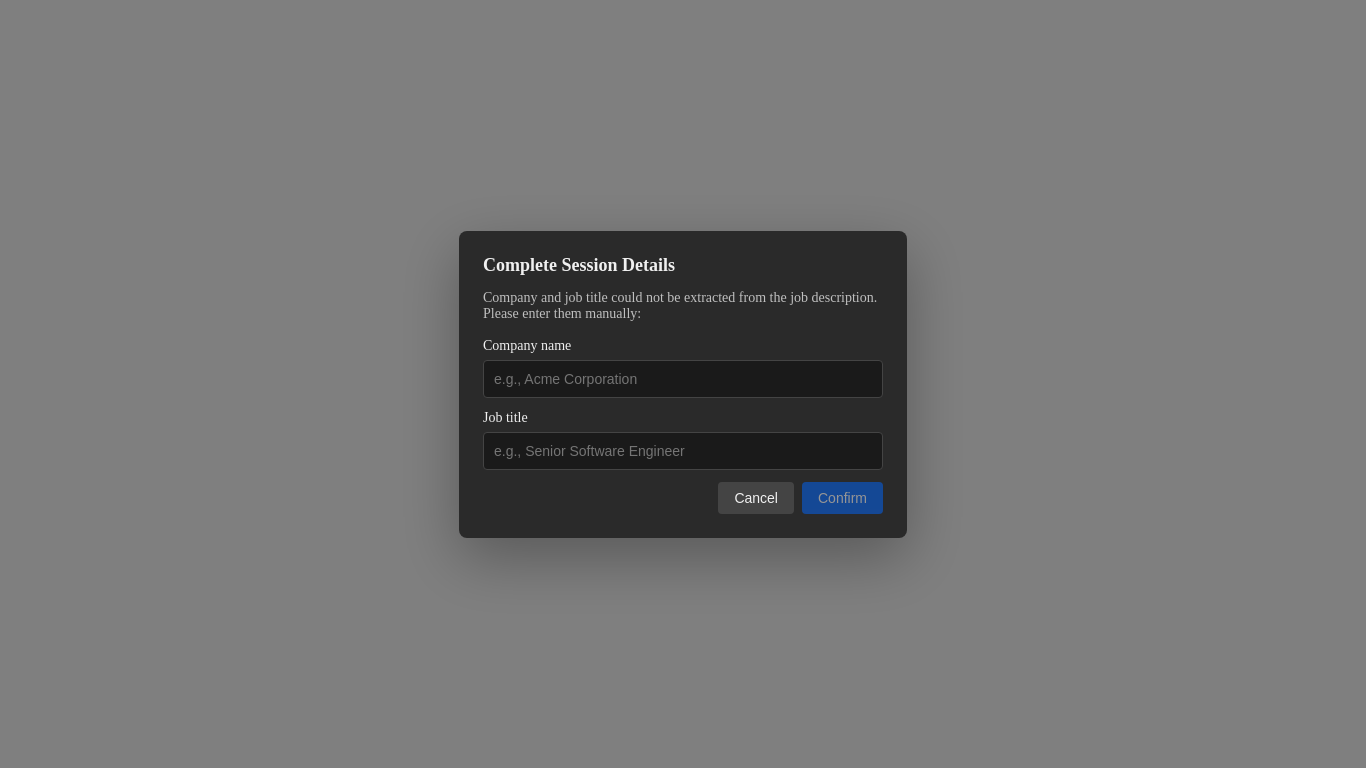
SessionWarningDialog › should enable confirm button when both fields are filled
Step 1. Type "Acme" into the field with id "company-input" → (683, 378), box [483, 360, 883, 398]
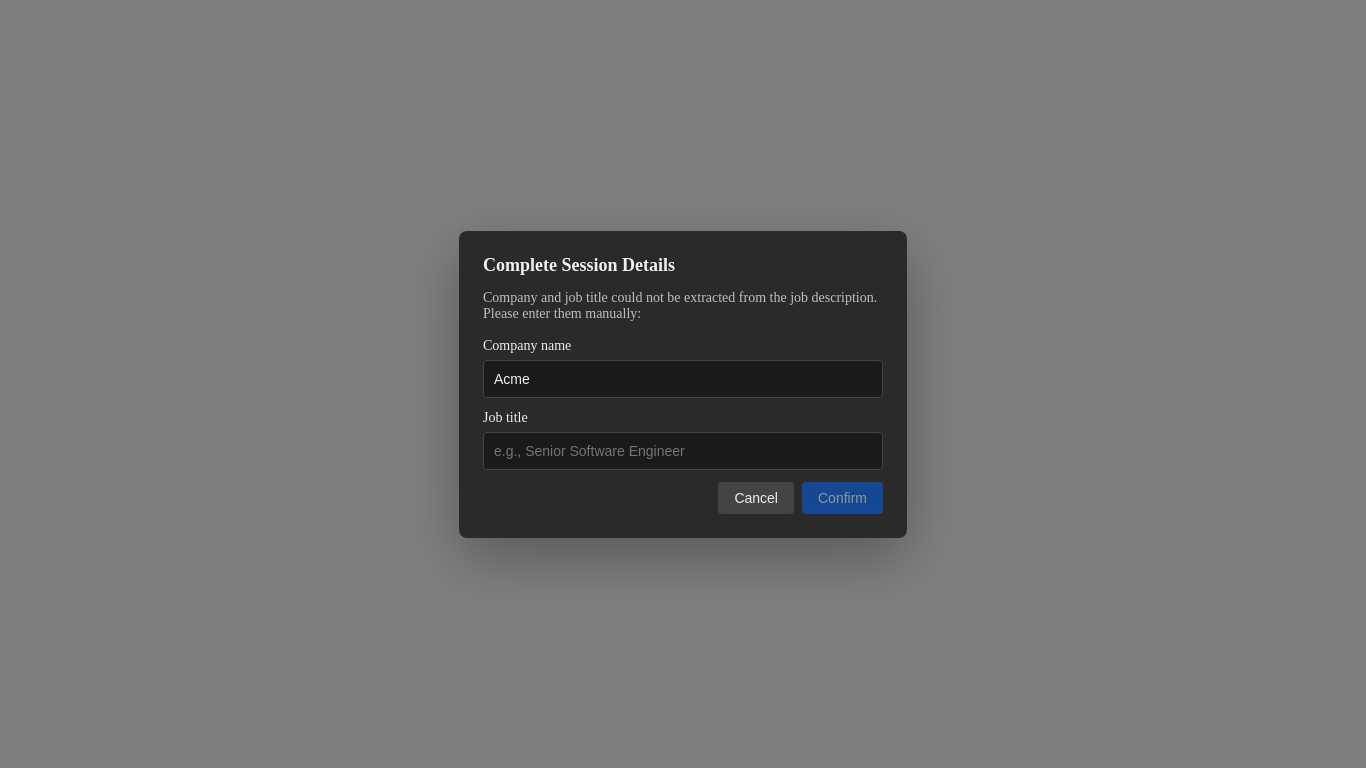
Step 2. Type "Engineer" into the field with id "role-input" → (683, 450), box [483, 432, 883, 470]
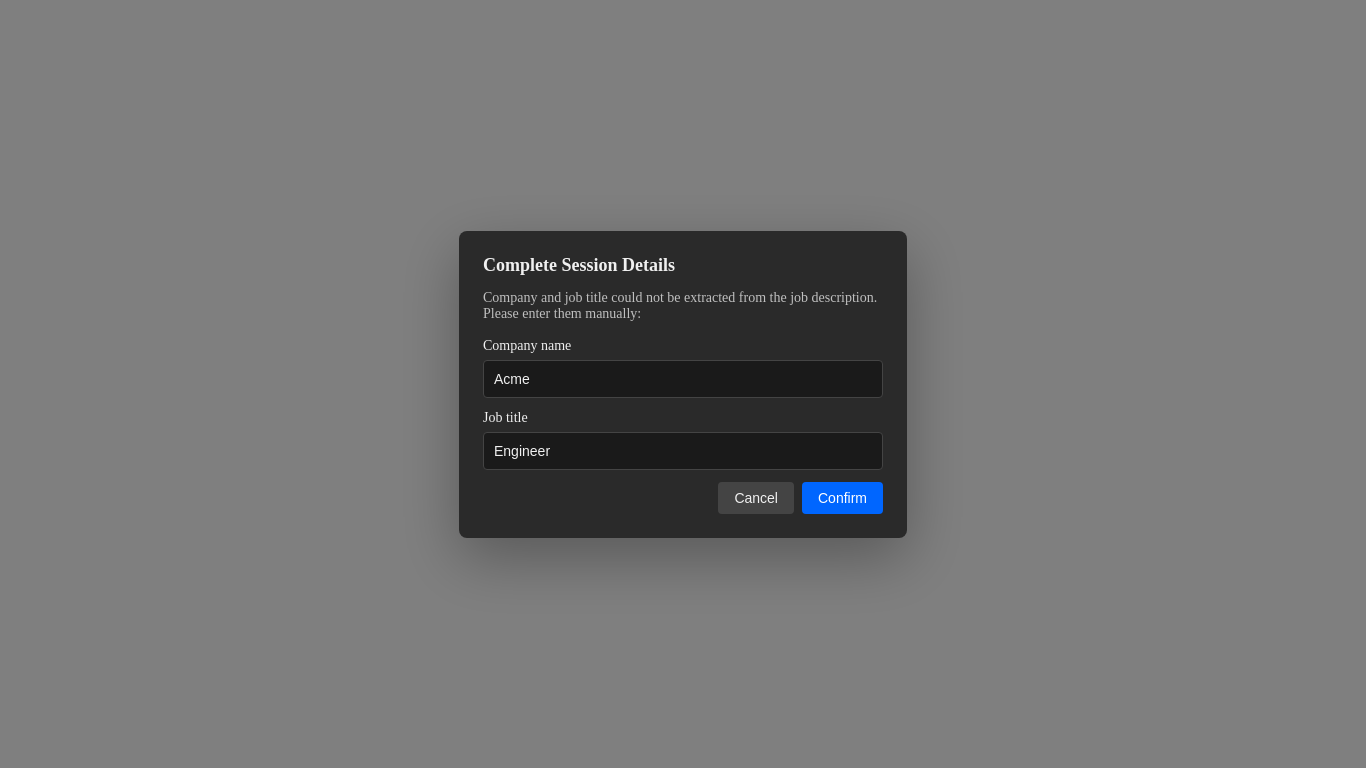
expect the button "Confirm" is enabled: met, box [802, 482, 883, 514]
